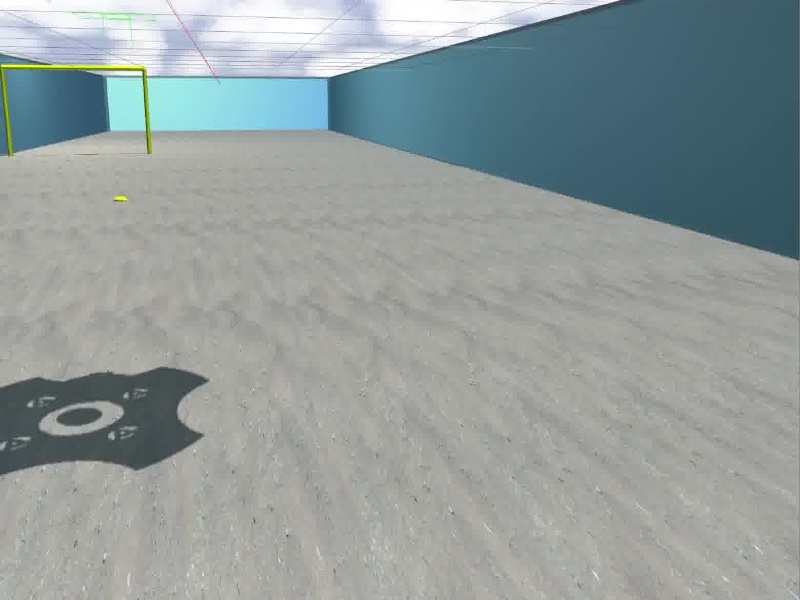gate: (1, 65, 153, 153)
